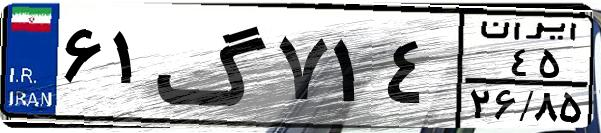1: (330, 28, 385, 110), (110, 28, 156, 98)
2: (470, 70, 495, 125)
4: (385, 28, 445, 110), (508, 27, 537, 80)
5: (560, 70, 590, 125), (537, 27, 568, 80)
6: (57, 26, 110, 100), (495, 70, 520, 125)
7: (270, 28, 330, 110)
8: (535, 70, 560, 125)
گ: (156, 12, 270, 120)
